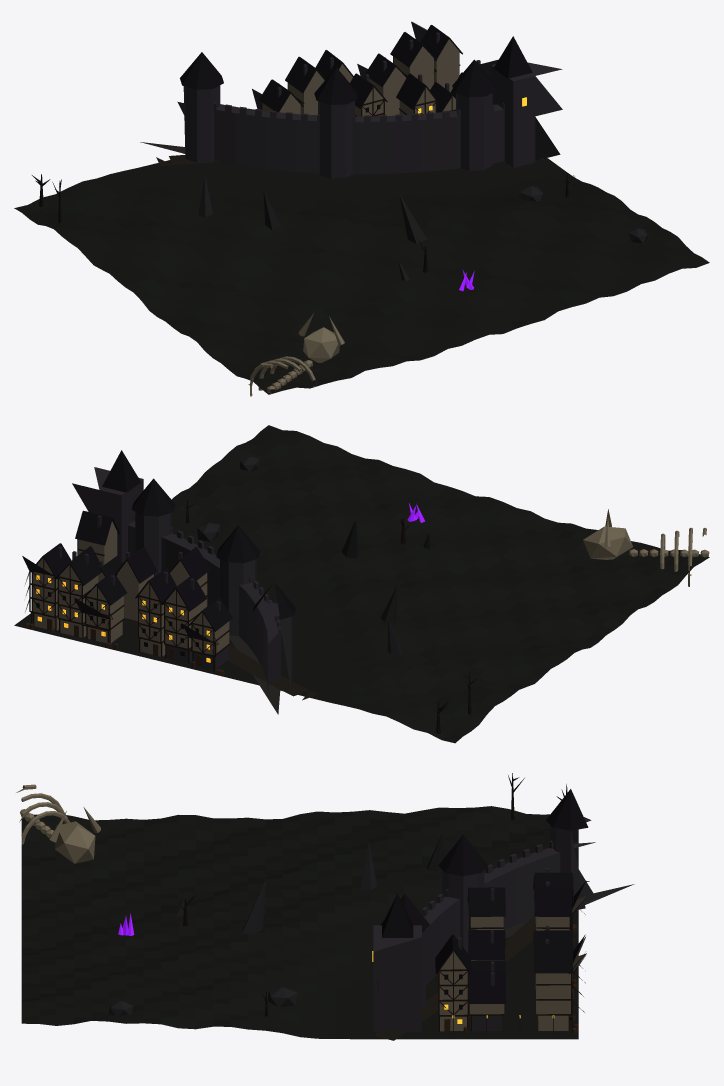
Rendered from chunk-5-5.glb.
The picture shows the model from 3 angles, top to bottom: view 1: azimuth 30°, elevation 25°; view 2: azimuth 150°, elevation 25°; view 3: azimuth 270°, elevation 25°; orthographic projection. The views are drawn at different scales.
Parts seen in each view (by area): view 1: Ash_Ground, Castle_Stone, Roof_Slate, Plaster, Old_Bone, Dark_Rock; view 2: Ash_Ground, Castle_Stone, Roof_Slate, Plaster, Timber, Old_Bone, Dark_Rock, Dirt_Road, Cobblestone, Old_Wood, Dead_Wood; view 3: Ash_Ground, Castle_Stone, Roof_Slate, Plaster, Old_Bone, Dark_Rock, Timber, Dirt_Road, Dead_Wood.
Part boxes in pixels (left/top/right/bottom): Ash_Ground: left=14, top=158, right=709, bottom=394; Castle_Stone: left=177, top=32, right=562, bottom=178; Roof_Slate: left=180, top=21, right=532, bottom=112; Plaster: left=262, top=22, right=459, bottom=116; Old_Bone: left=248, top=313, right=344, bottom=396; Dark_Rock: left=198, top=176, right=647, bottom=280; Ash_Ground: left=14, top=425, right=709, bottom=743; Castle_Stone: left=57, top=467, right=292, bottom=691; Roof_Slate: left=22, top=450, right=296, bottom=644; Plaster: left=33, top=521, right=229, bottom=656; Timber: left=25, top=539, right=229, bottom=671; Old_Bone: left=583, top=509, right=709, bottom=586; Dark_Rock: left=197, top=456, right=431, bottom=655; Dirt_Road: left=227, top=645, right=317, bottom=700; Cobblestone: left=229, top=635, right=280, bottom=714; Old_Wood: left=26, top=618, right=224, bottom=675; Dead_Wood: left=181, top=499, right=478, bottom=733; Ash_Ground: left=21, top=806, right=578, bottom=1039; Castle_Stone: left=373, top=817, right=596, bottom=1031; Roof_Slate: left=380, top=789, right=588, bottom=1003; Plaster: left=439, top=896, right=586, bottom=1031; Old_Bone: left=16, top=784, right=100, bottom=863; Dark_Rock: left=108, top=833, right=443, bottom=1015; Timber: left=437, top=903, right=585, bottom=1031; Dirt_Road: left=374, top=881, right=589, bottom=1040; Dead_Wood: left=176, top=773, right=567, bottom=1016.
Size of what is drawn, in the model's own units: 91.55 by 25.4 by 100.
